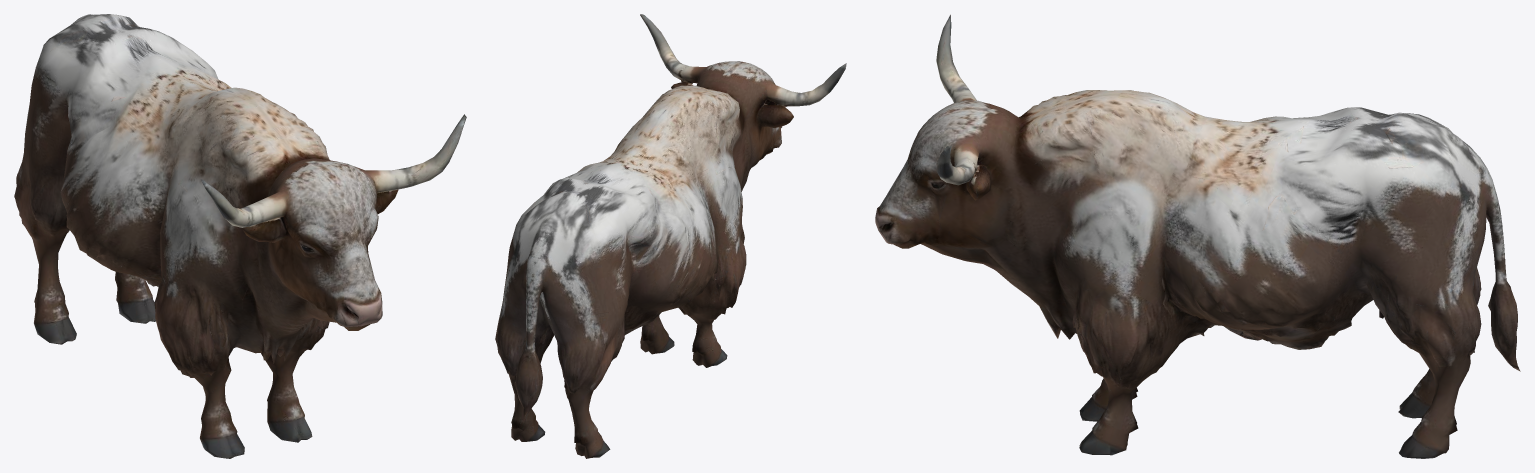
The model's file is yak.glb.
The picture shows the model from 3 angles, left to right: view 1: azimuth 30°, elevation 25°; view 2: azimuth 150°, elevation 25°; view 3: azimuth 270°, elevation 25°; orthographic projection. The views are drawn at different scales.
Parts seen in each view (by area): view 1: yak_body; view 2: yak_body; view 3: yak_body.
Part boxes in pixels (bbox=[...]): yak_body: bbox=[14, 14, 466, 458]; yak_body: bbox=[495, 14, 846, 458]; yak_body: bbox=[875, 14, 1520, 458].
Size of the model in its own units: 0.1292 by 0.163 by 0.27.
Materials: 1 (1 with a texture image).
